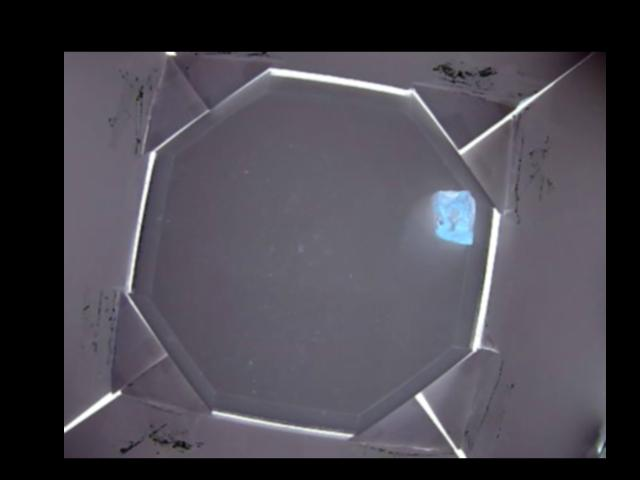Brisk: (431, 190, 475, 245)
